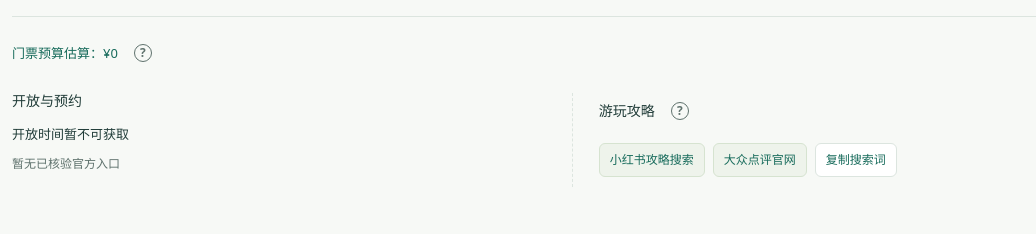
Test: updates the search and copies the current keyword without opening a hint
What coordinates should you click on to do the following:
click the button "复制搜索词"
I would click on:
 (856, 160)
Its box is [815,143,897,177].
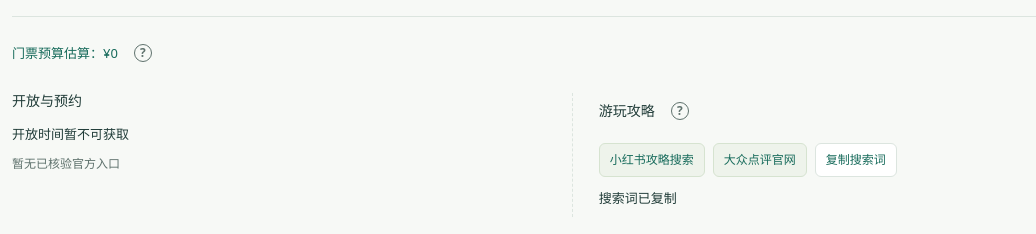
Expected: the text "搜索词已复制" is shown, [599,189,677,207]
